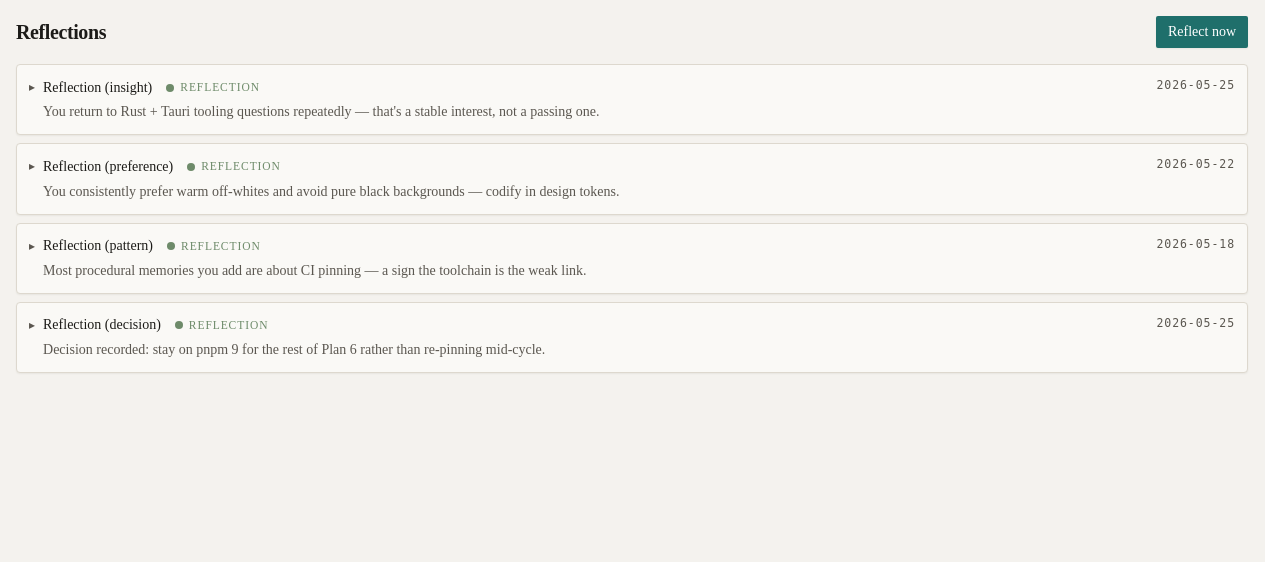
it: promote failure surfaces an error near the button (P2-15)
// Expand the card first to reveal the promote button.
Click the text "Reflection (insight)" at {"x": 98, "y": 88}, box 43,78 -> 152,98
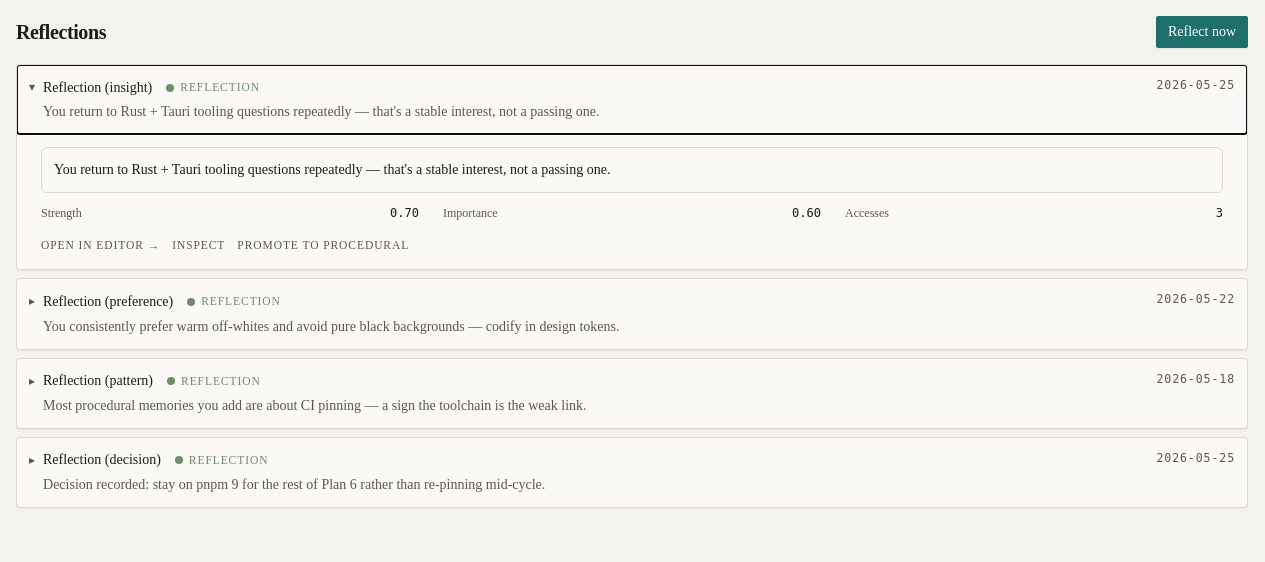
Click the button "Promote to procedural" at {"x": 323, "y": 245}, box 237,237 -> 409,253
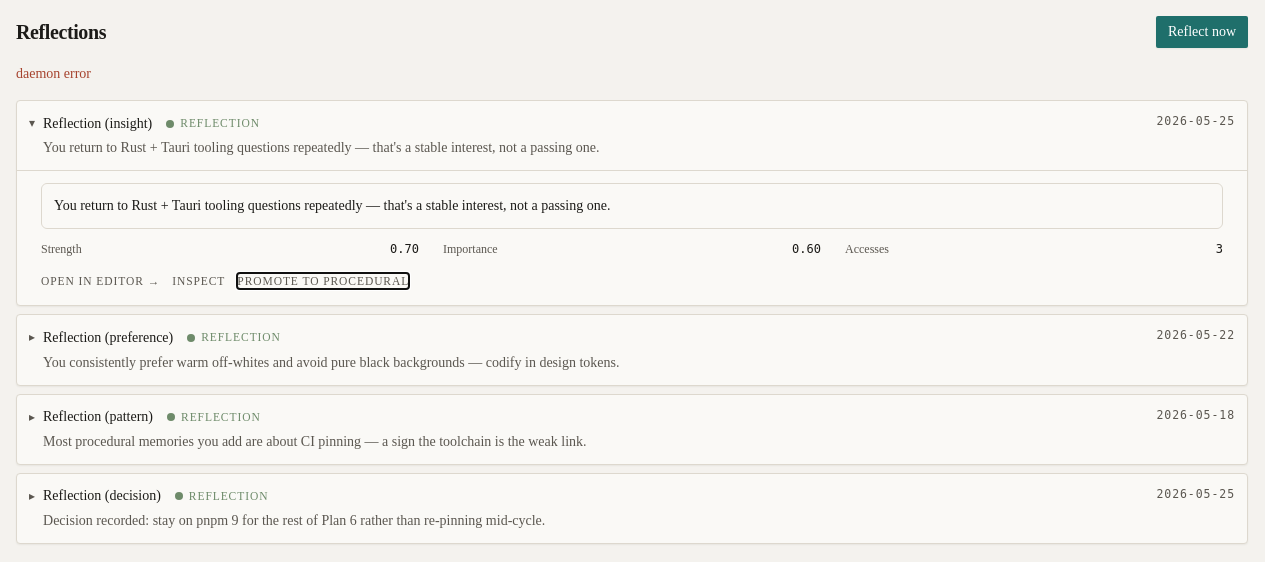
expect the message "daemon error" is shown: met, box 16,66 -> 91,81
